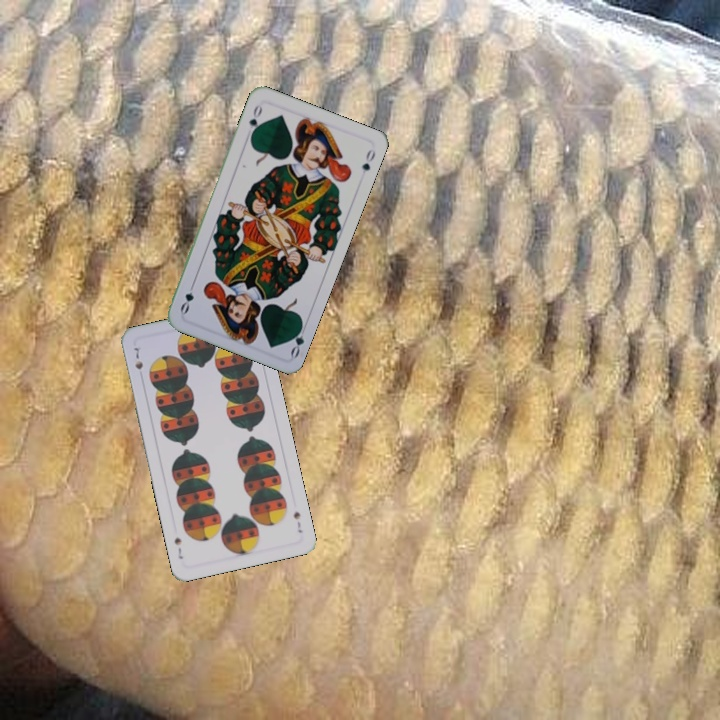GO: (286, 319, 310, 360), (245, 101, 265, 140)
S7: (130, 343, 146, 372), (289, 507, 305, 535)
